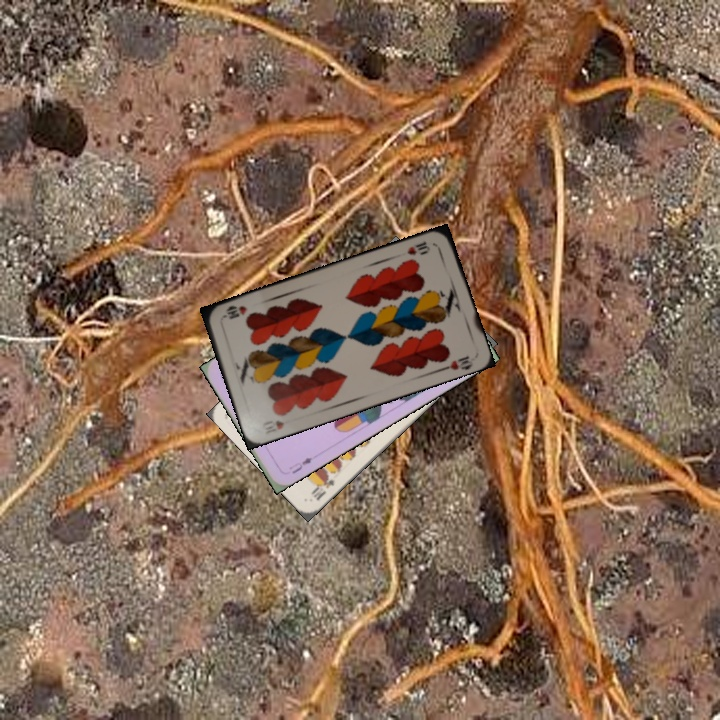E10: (307, 471, 337, 503)
EU: (285, 453, 315, 477)
H10: (403, 237, 432, 258), (261, 416, 287, 435)
